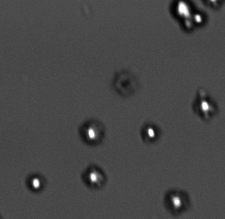Dead Cell: (112, 69, 142, 98)
Living Cell: (169, 1, 208, 31), (78, 117, 105, 146), (165, 188, 191, 214), (80, 164, 107, 189), (140, 121, 162, 144), (193, 96, 216, 117), (25, 172, 48, 192)
